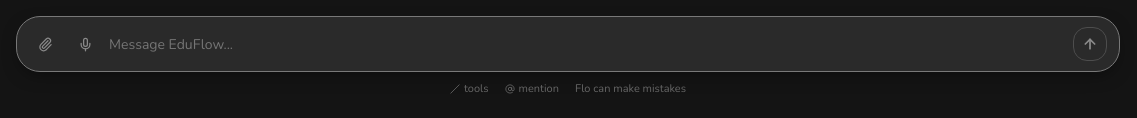
voice input appends transcript into the composer
Click the button with test id "voice-input-btn": (85, 44) left=69, top=28, right=101, bottom=60
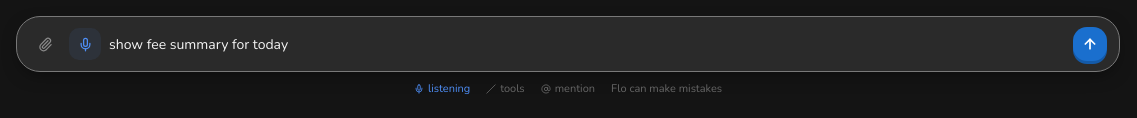
Result: the text box with test id "chat-input" holds "show fee summary for today" at left=109, top=34, right=1065, bottom=55
